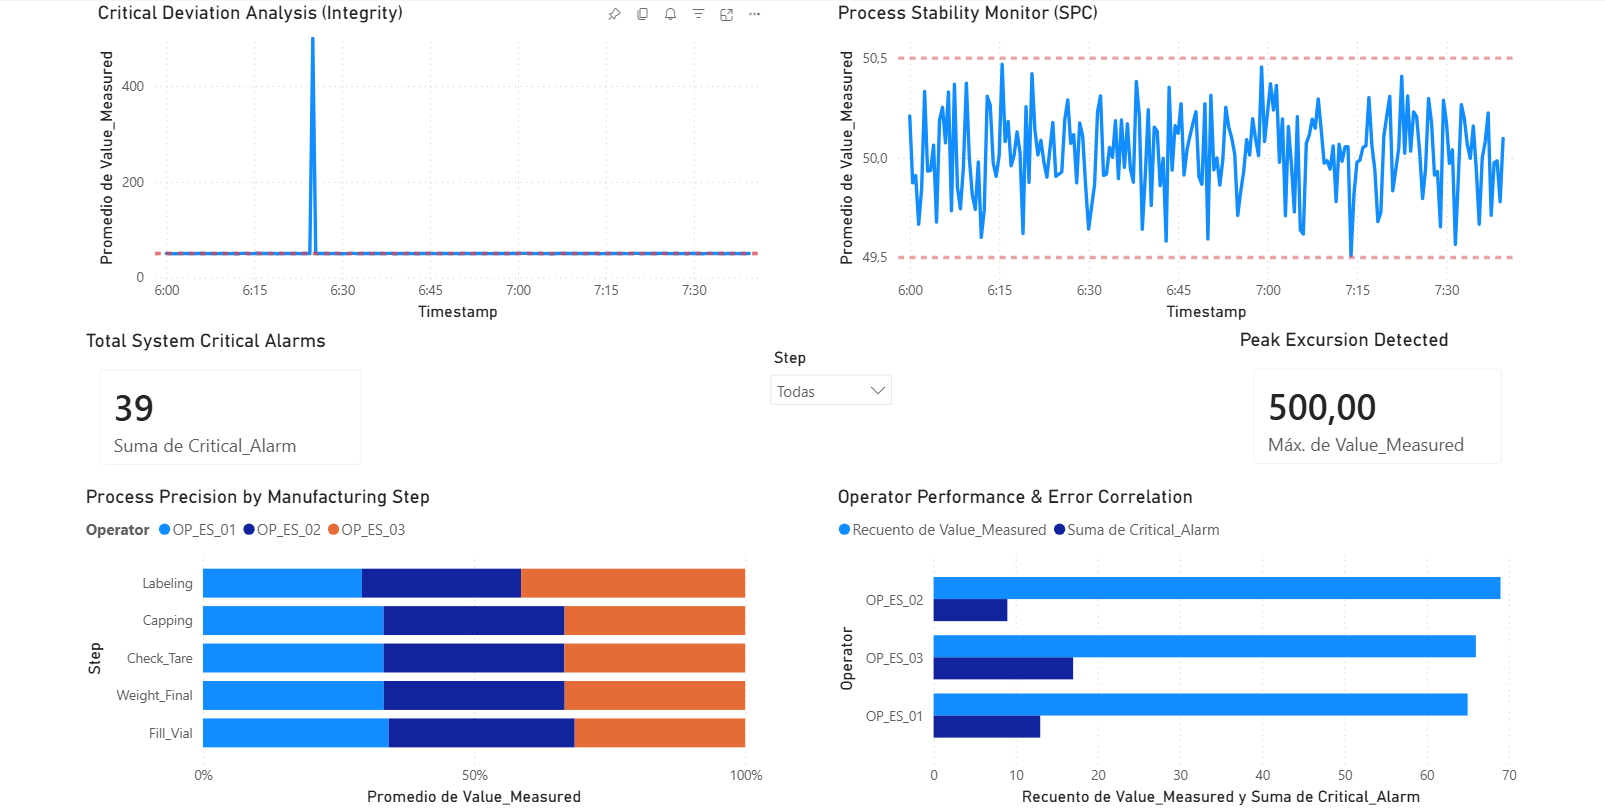

The dashboard page shown, as its layout file describes it:
{"tool":"powerbi","page":{"name":"Página 1","canvas":[1280,720],"ordinal":0},"visuals":[{"type":"lineChart","title":"Critical Deviation Analysis (Integrity)","fields":{"Y":["Avg(MES_Production_Log 10.Value_Measured)"],"Category":["MES_Production_Log 10.Timestamp"]},"box":[10.3,0,600.5,288.4],"z":0},{"type":"lineChart","title":"Process Stability Monitor (SPC)","fields":{"Y":["Avg(MES_Production_Log 10.Value_Measured)"],"Category":["MES_Production_Log 10.Timestamp"]},"box":[667.2,0,612.8,288.4],"z":1000},{"type":"slicer","fields":{"Values":["MES_Production_Log 10.Step"]},"box":[602.5,303.8,128.3,74.9],"z":2000},{"type":"clusteredBarChart","title":"Operator Performance & Error Correlation","fields":{"Category":["MES_Production_Log 10.Operator"],"Y":["CountNonNull(MES_Production_Log 10.Value_Measured)","Sum(MES_Production_Log 10.Critical_Alarm)"]},"box":[667.2,430.1,612.8,289.5],"z":3000},{"type":"cardVisual","title":"Peak Excursion Detected","fields":{"Data":["Max(MES_Production_Log 10.Value_Measured)"]},"box":[1024.4,290.5,255.6,138.6],"z":3001},{"type":"cardVisual","title":"Total System Critical Alarms","fields":{"Data":["Sum(MES_Production_Log 10.Critical_Alarm)"]},"box":[0,291.5,267.9,138.6],"z":3002},{"type":"hundredPercentStackedBarChart","title":"Process Precision by Manufacturing Step","fields":{"Category":["MES_Production_Log 10.Step"],"Y":["Avg(MES_Production_Log 10.Value_Measured)"],"Series":["MES_Production_Log 10.Operator"]},"box":[0,430.1,610.8,289.5],"z":3003}]}

Visuals, with their boxes on the page's 1280x720 design canvas (x1, y1, x2, y2). These are canvas units, not pixel positions in the 1605x812 screenshot, which may show the page scaled, cropped or inside an application window:
"Critical Deviation Analysis (Integrity)" lineChart: box(10, 0, 611, 288)
"Process Stability Monitor (SPC)" lineChart: box(667, 0, 1280, 288)
slicer - MES_Production_Log 10.Step: box(602, 304, 731, 379)
"Operator Performance & Error Correlation" clusteredBarChart: box(667, 430, 1280, 720)
"Peak Excursion Detected" cardVisual: box(1024, 290, 1280, 429)
"Total System Critical Alarms" cardVisual: box(0, 292, 268, 430)
"Process Precision by Manufacturing Step" hundredPercentStackedBarChart: box(0, 430, 611, 720)
